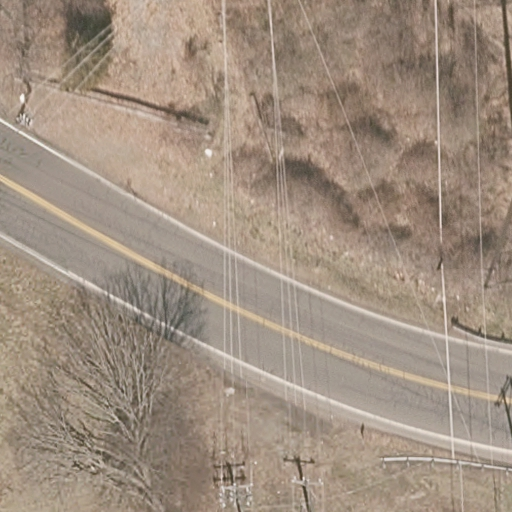DT: (492, 374, 512, 436)
TT: (212, 456, 316, 512)
